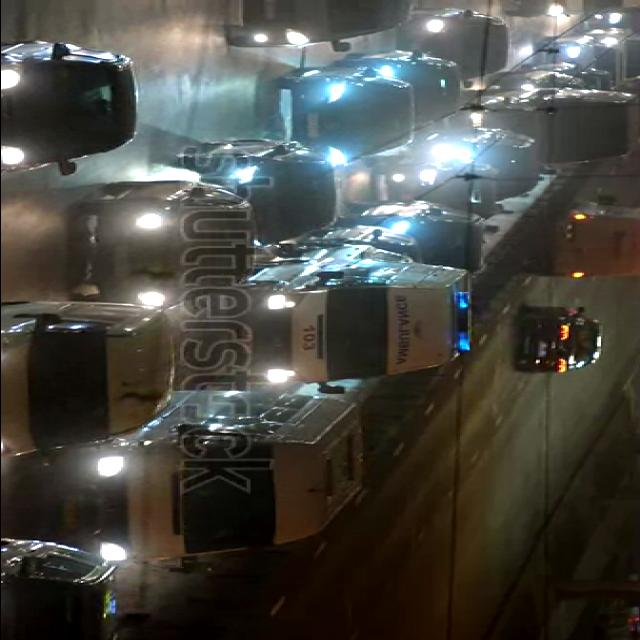ambulance: (212, 257, 472, 388)
